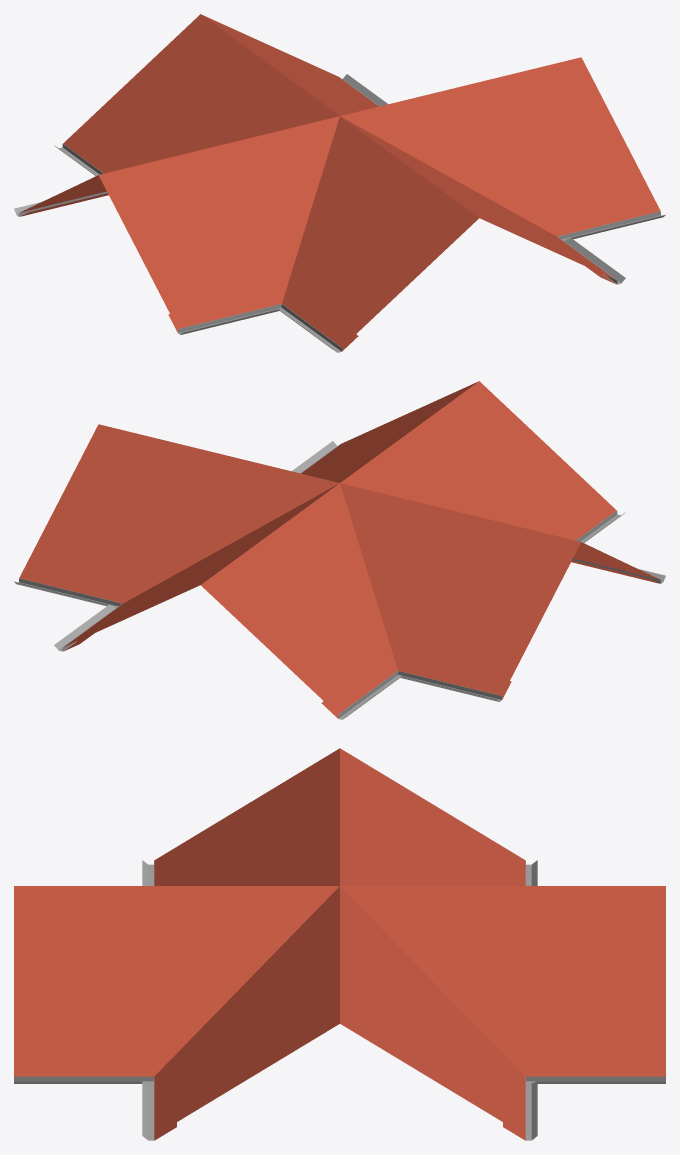
The model's file is MESH_ENV(Telhado_12x12_Formato_+).fbx.
3 views of the same model, one above another, from view 1: azimuth 30°, elevation 25°; view 2: azimuth 150°, elevation 25°; view 3: azimuth 270°, elevation 25° (orthographic). The views are drawn at different scales.
Parts seen in each view (by area): view 1: MESH_ENV(Telhado_12x12_Formato_+)_LOD0; view 2: MESH_ENV(Telhado_12x12_Formato_+)_LOD0; view 3: MESH_ENV(Telhado_12x12_Formato_+)_LOD0.
Part boxes in pixels (bbox=[...]): MESH_ENV(Telhado_12x12_Formato_+)_LOD0: bbox=[14, 14, 665, 352]; MESH_ENV(Telhado_12x12_Formato_+)_LOD0: bbox=[14, 381, 665, 719]; MESH_ENV(Telhado_12x12_Formato_+)_LOD0: bbox=[14, 748, 665, 1140].
Bounding box in the file's own units: 1200 × 238 × 1200.
